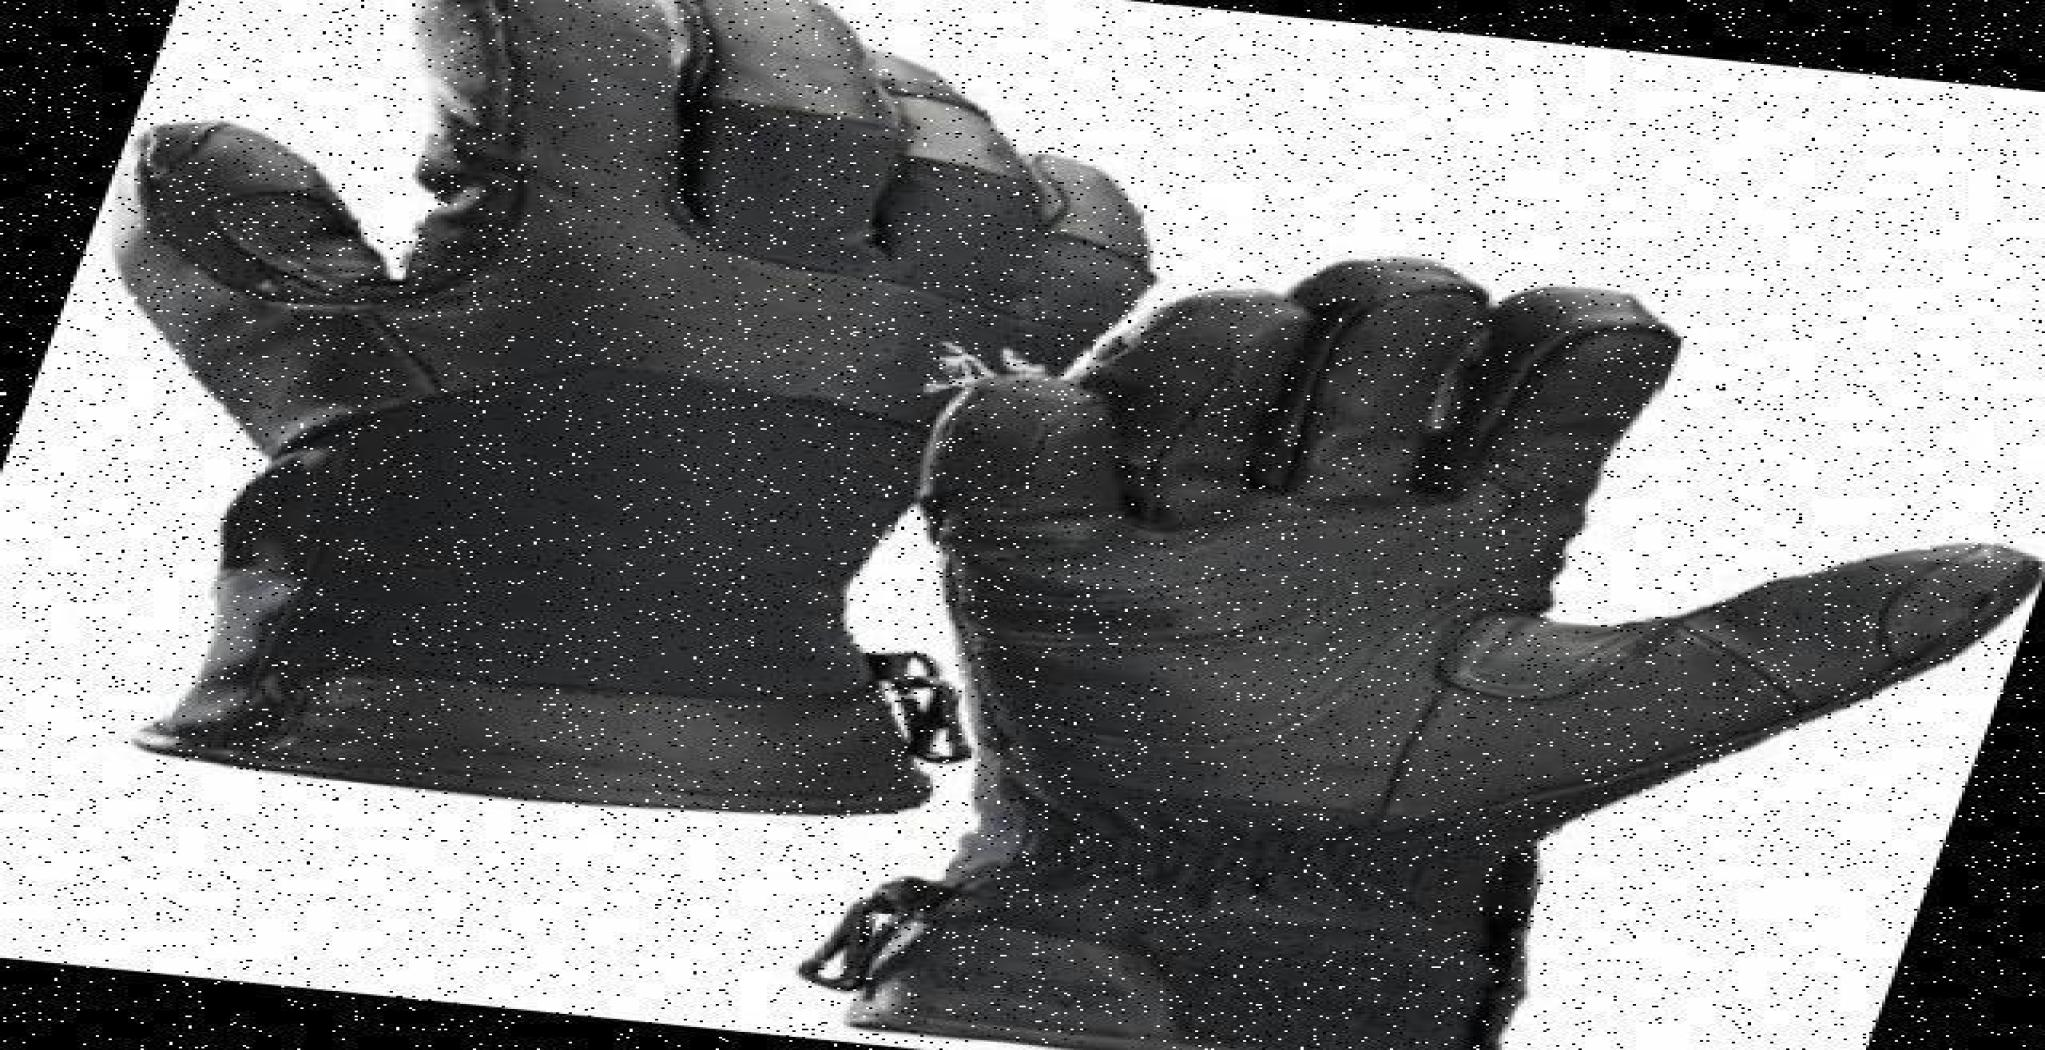gloved: (982, 256, 2029, 1050), (189, 5, 1108, 812)
